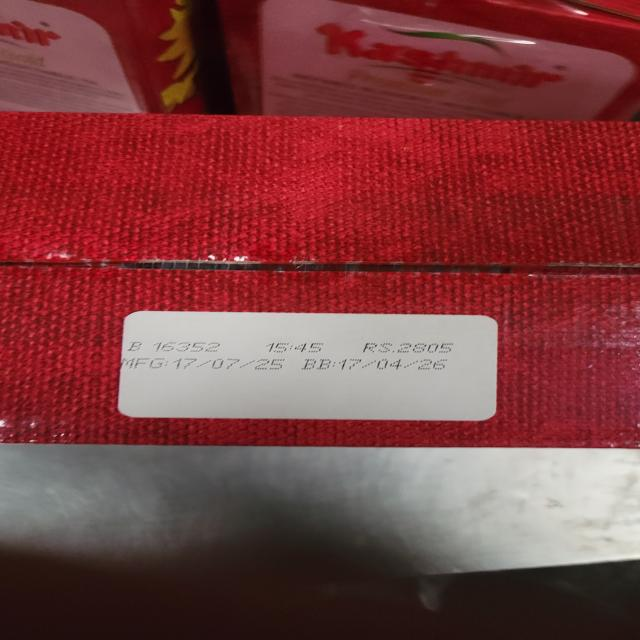BB: (305, 358, 451, 371)
Batch: (122, 342, 221, 352)
MFG: (120, 358, 285, 370)
RS: (361, 342, 456, 354)
TimeStamp: (261, 342, 324, 353)
